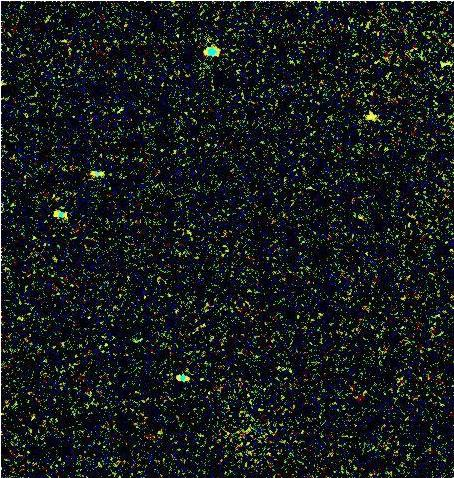star: (355, 94, 385, 124)
